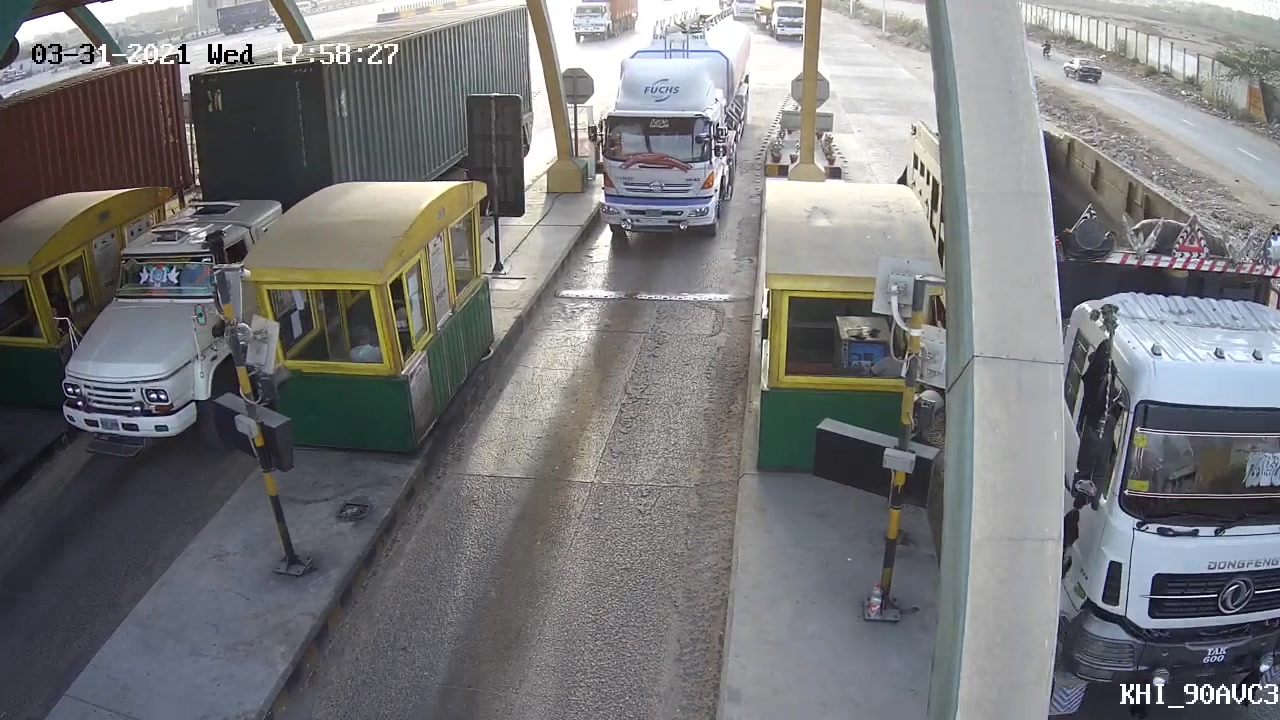F6: (575, 38, 755, 247)
